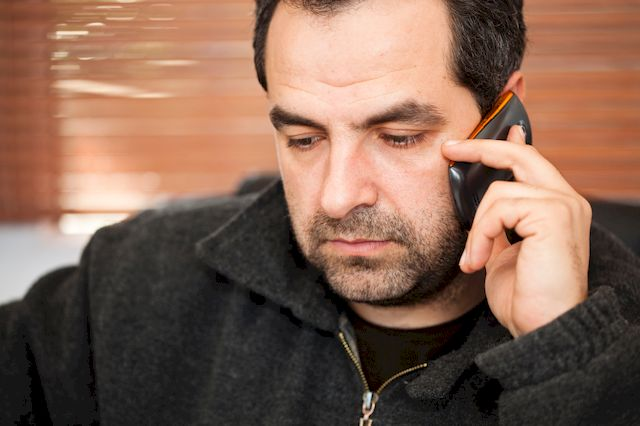phone: (463, 91, 532, 219)
talk: (269, 79, 594, 337)
